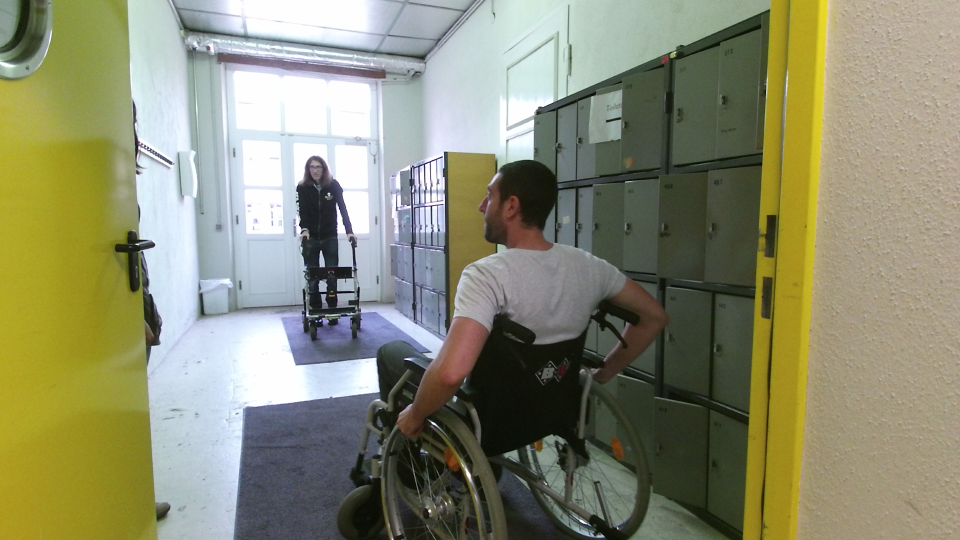wheelchair: (330, 154, 674, 540)
